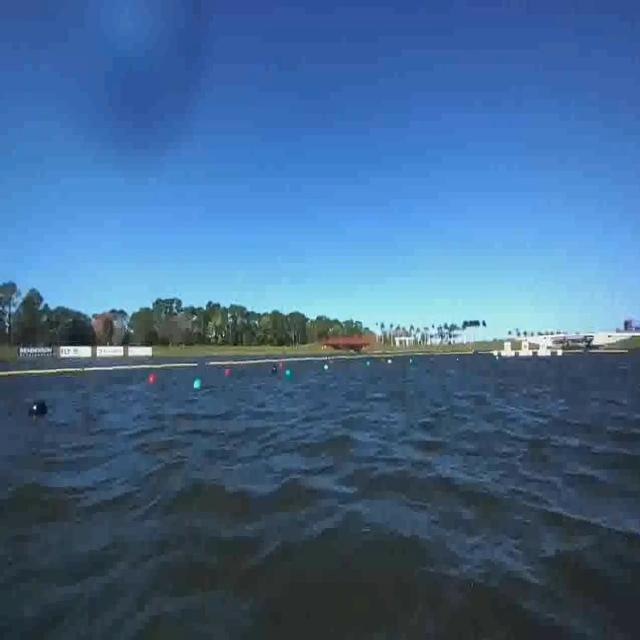black-buoy: (29, 402, 49, 418)
green-buoy: (188, 369, 206, 398)
red-buoy: (149, 372, 156, 383)
